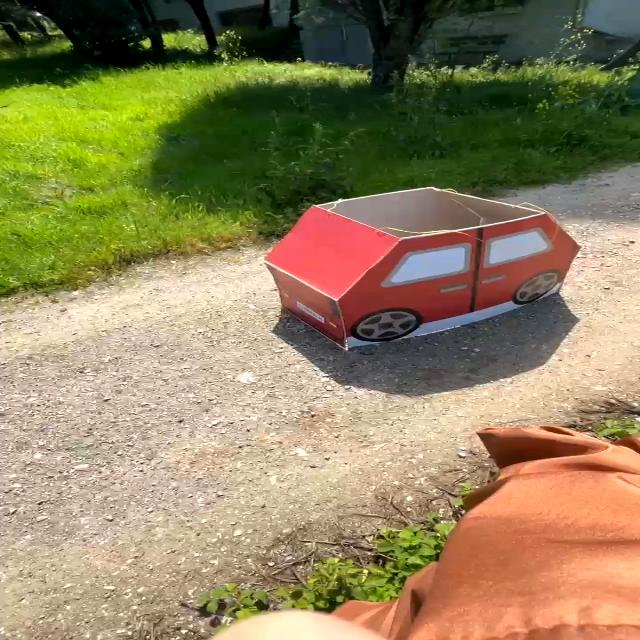red_car: (247, 179, 591, 346)
